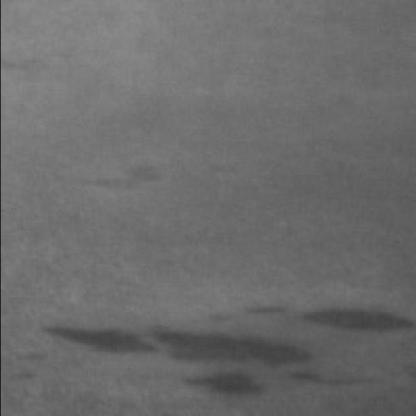inclusion: (35, 306, 412, 401), (243, 291, 416, 333), (83, 152, 179, 198)
